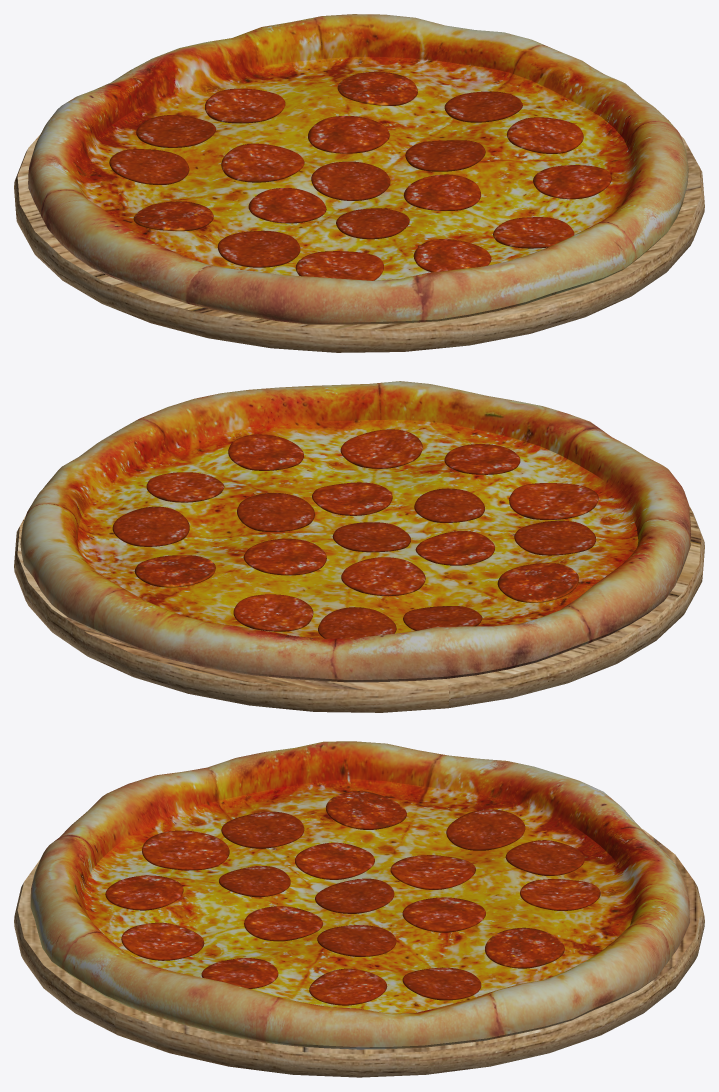
The model's file is pizza01.fbx.
3 renders of one model, top to bottom at view 1: azimuth 30°, elevation 25°; view 2: azimuth 150°, elevation 25°; view 3: azimuth 270°, elevation 25°, orthographic.
Visible parts, largest first — view 1: pizza, sausage, Bottom; view 2: pizza, sausage, Bottom; view 3: pizza, sausage, Bottom.
Boxes of the visible parts, <box> form: pizza: <box>28,14,688,324</box>; sausage: <box>109,71,611,280</box>; Bottom: <box>14,135,704,352</box>; pizza: <box>20,381,690,682</box>; sausage: <box>112,429,598,638</box>; Bottom: <box>14,499,704,712</box>; pizza: <box>30,741,689,1049</box>; sausage: <box>105,791,600,1005</box>; Bottom: <box>14,828,704,1077</box>.
Size of the model in its own units: 157 by 15.31 by 157.
